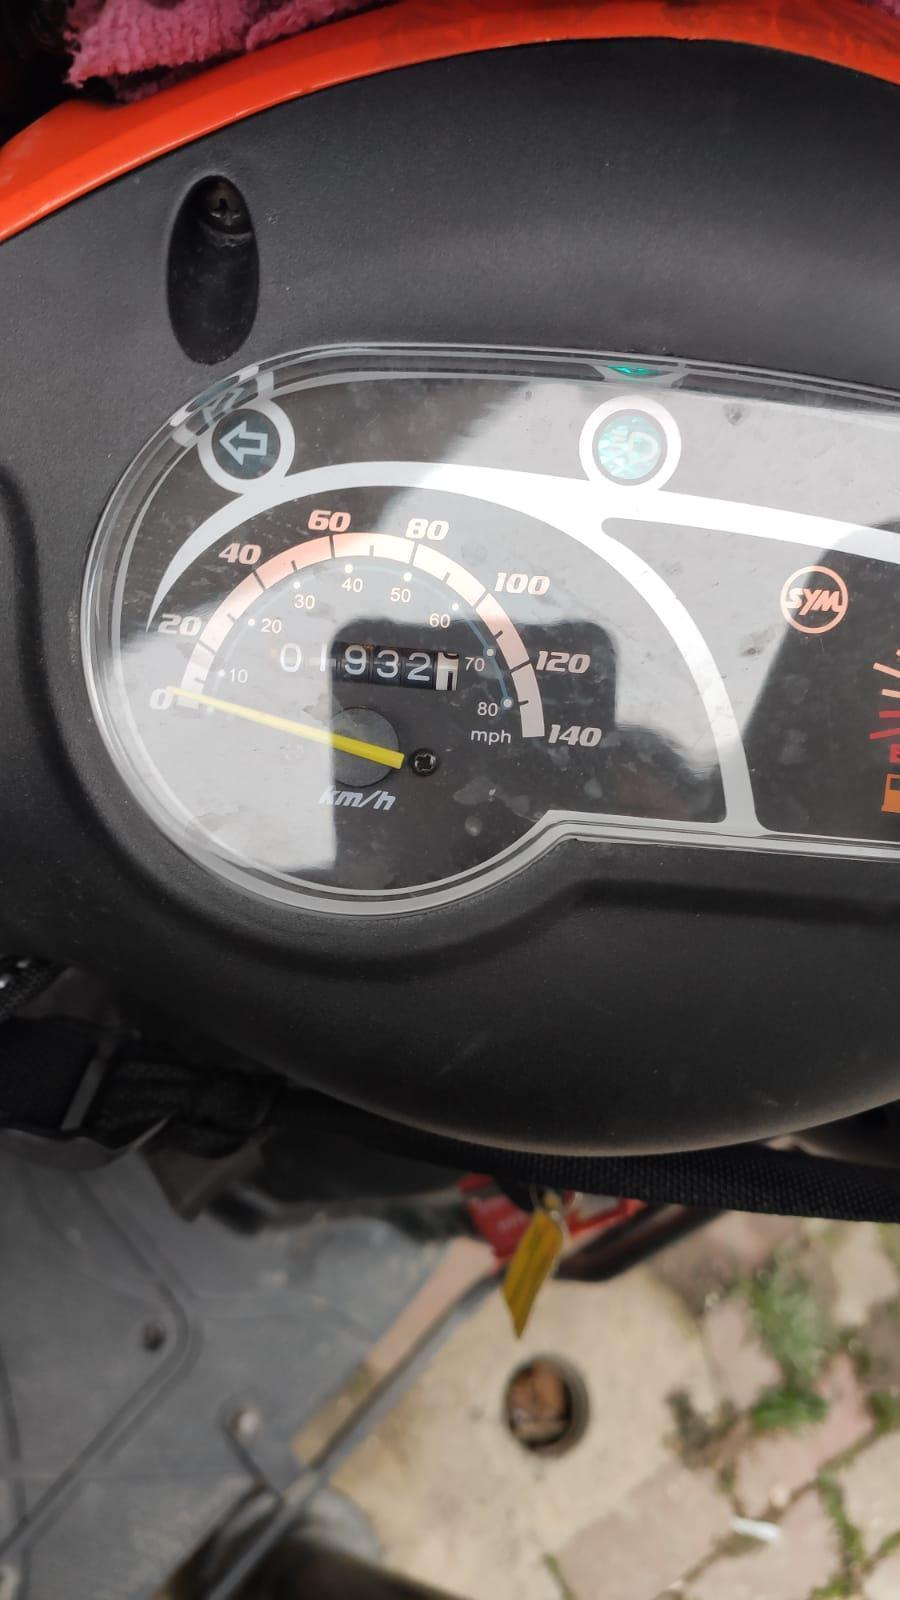0: (276, 638, 305, 680)
1: (313, 637, 332, 685), (438, 663, 458, 695)
2: (405, 648, 431, 682)
3: (374, 648, 400, 681)
9: (340, 643, 367, 678)
odometer: (260, 635, 464, 695)
